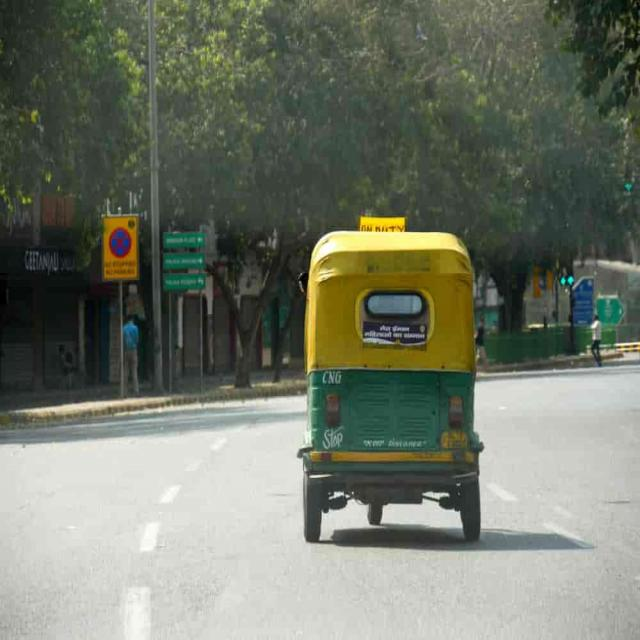autorikshaw: (304, 220, 483, 540)
